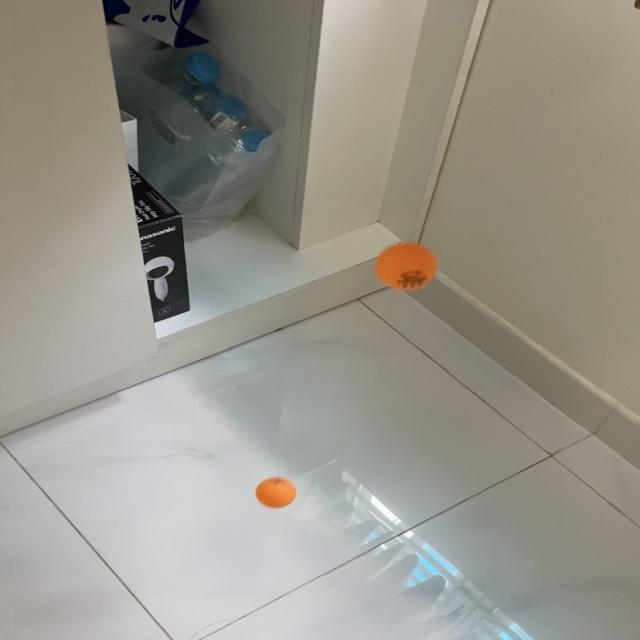ping-pong-ball: (376, 243, 439, 291), (254, 476, 299, 509)
